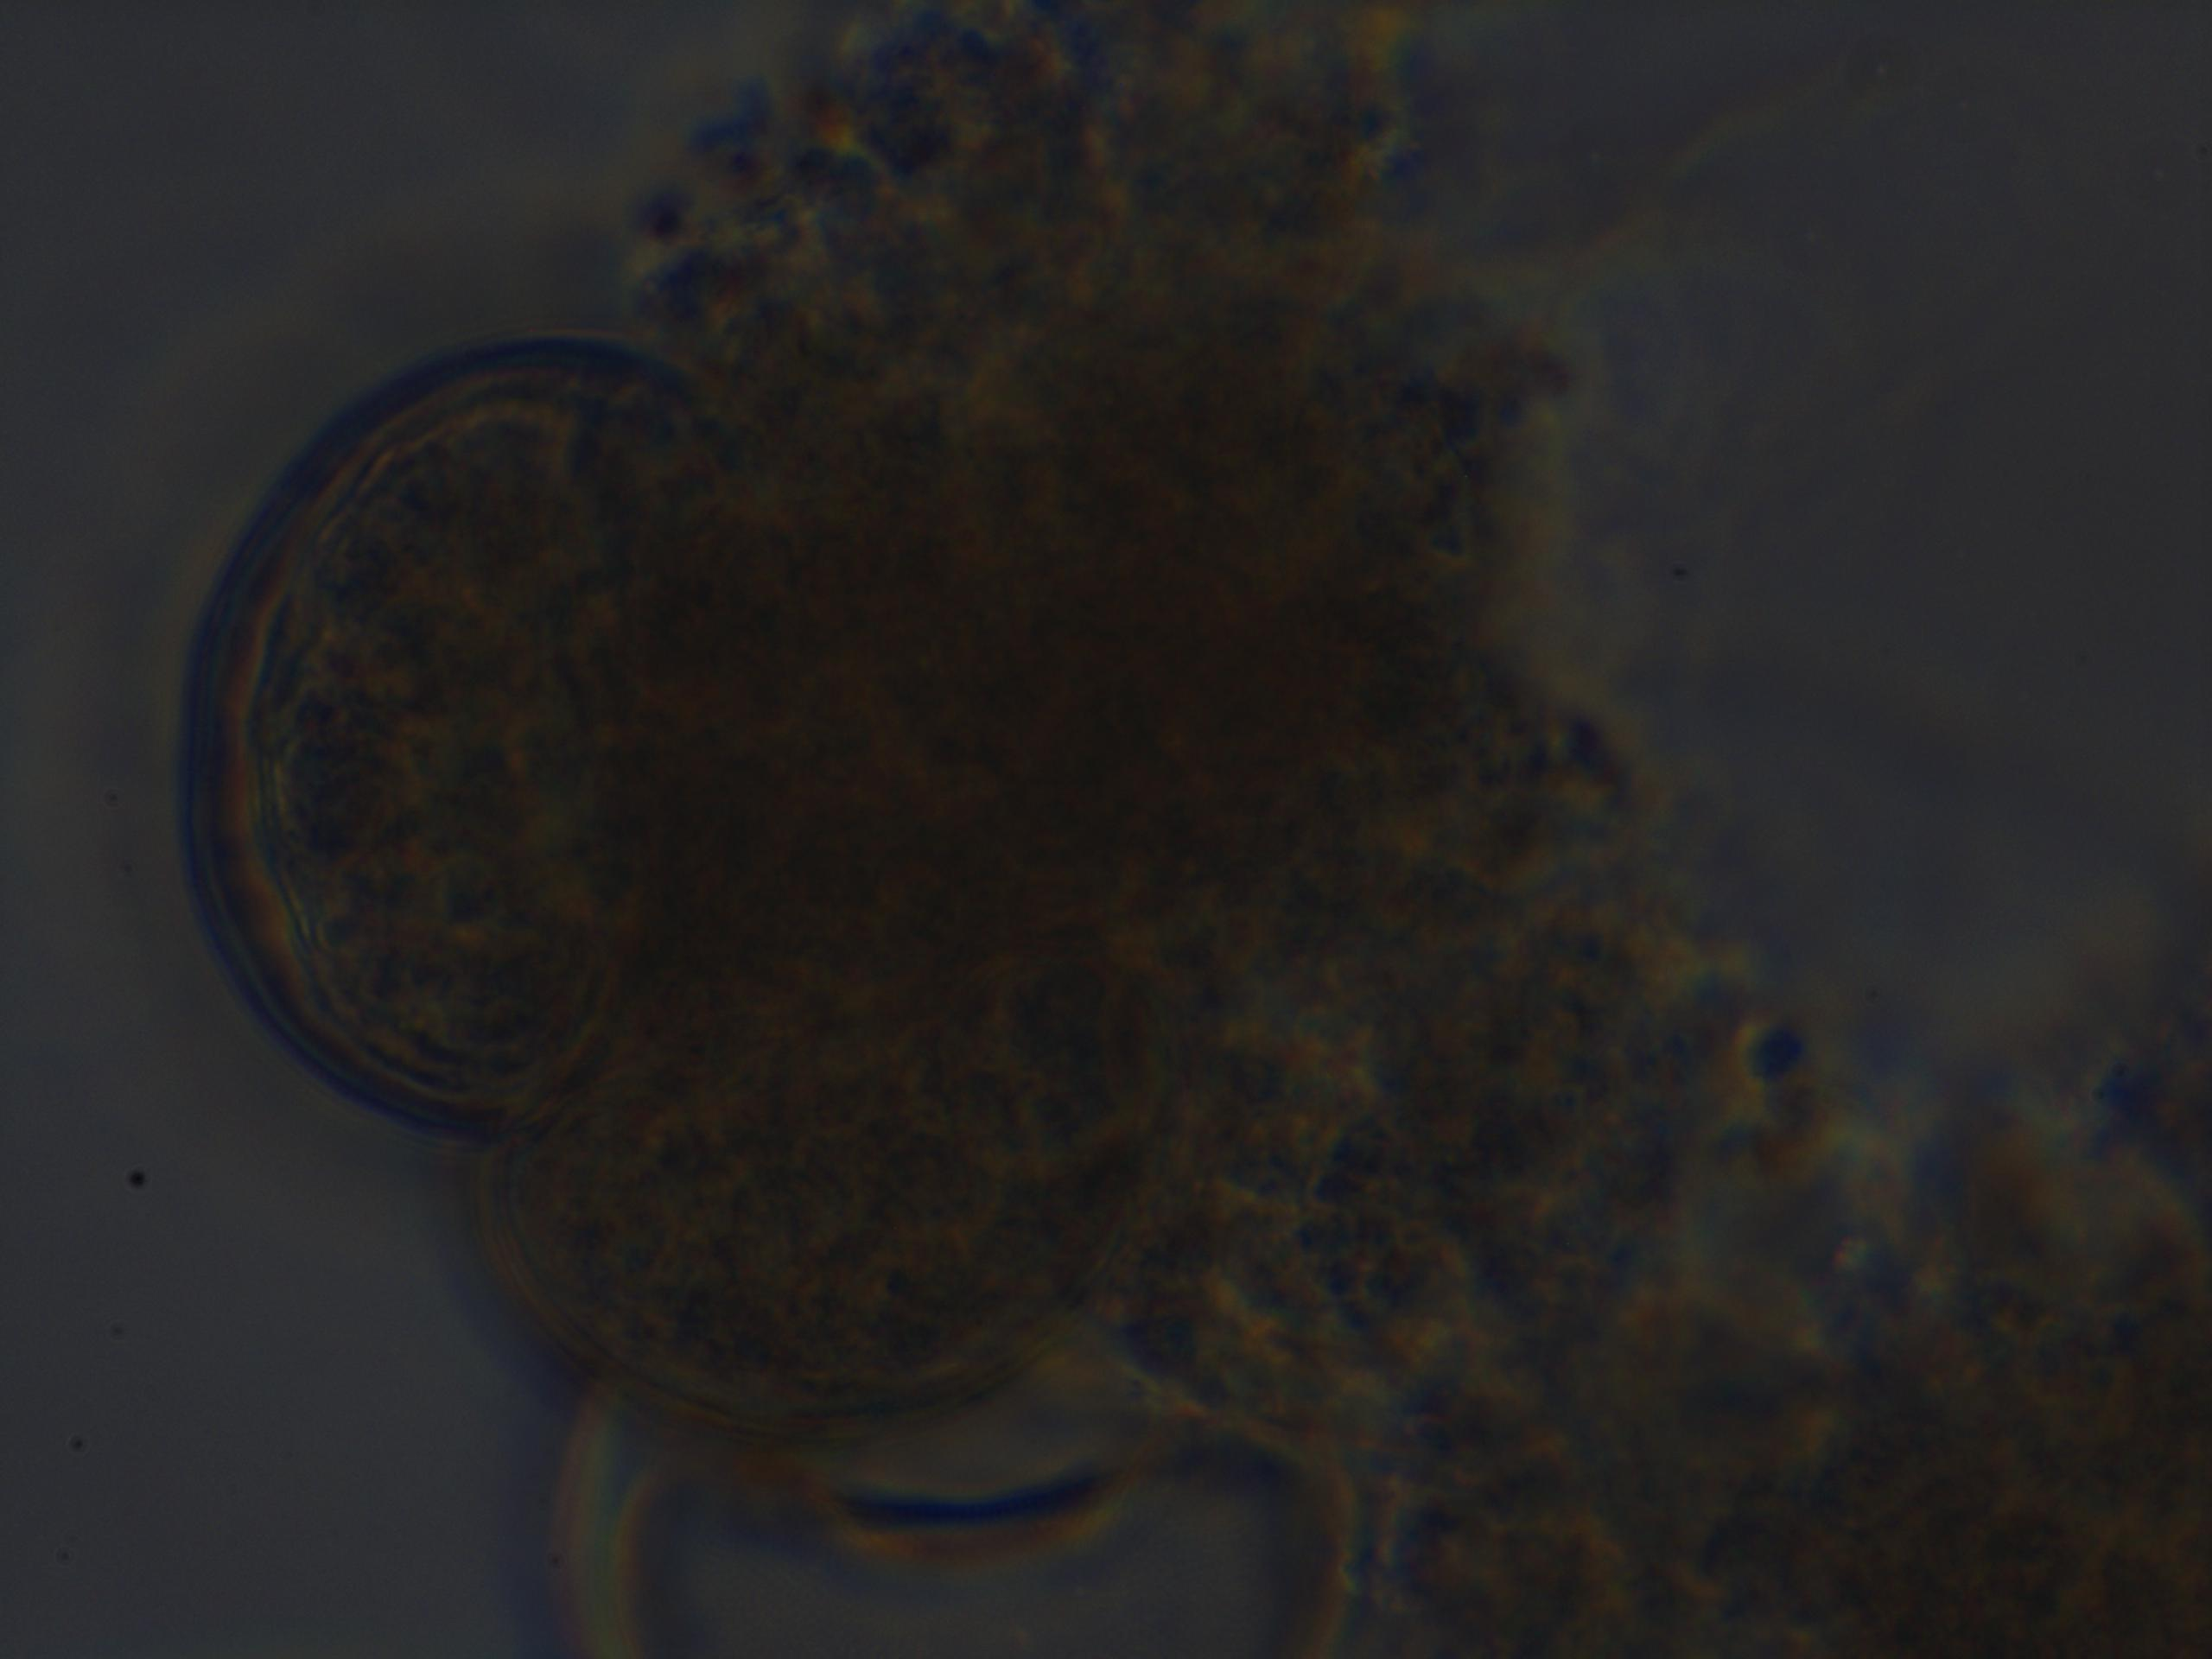protozoa: (162, 314, 702, 1138)
